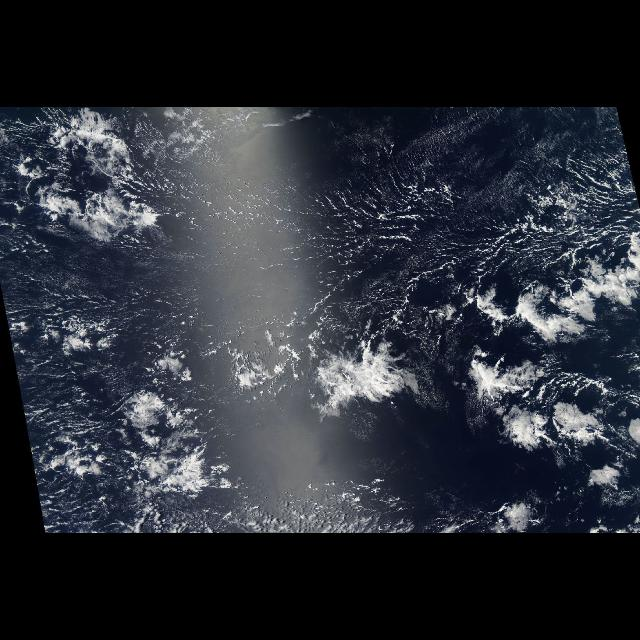Fish: (315, 272, 639, 493)
Gravel: (7, 287, 314, 533), (199, 162, 635, 284)
Sugar: (163, 130, 631, 322)
